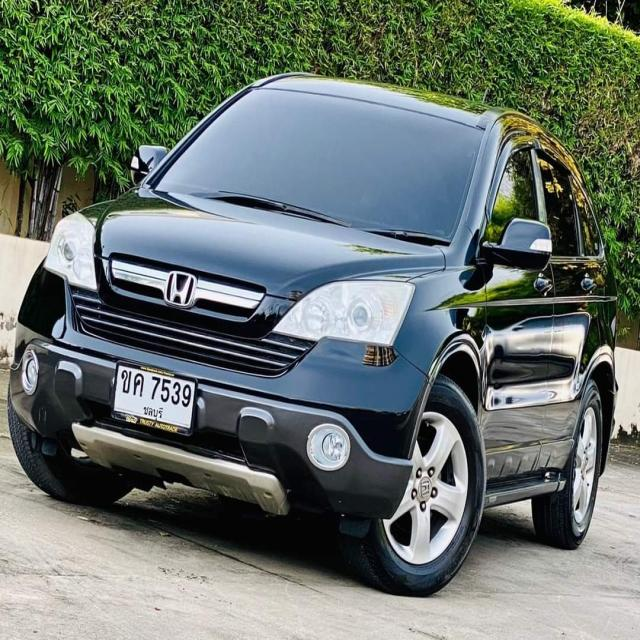license_plate: (110, 358, 201, 442)
